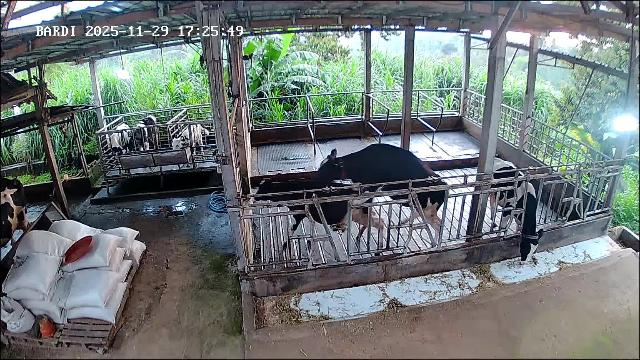mounting: (317, 143, 444, 249)
